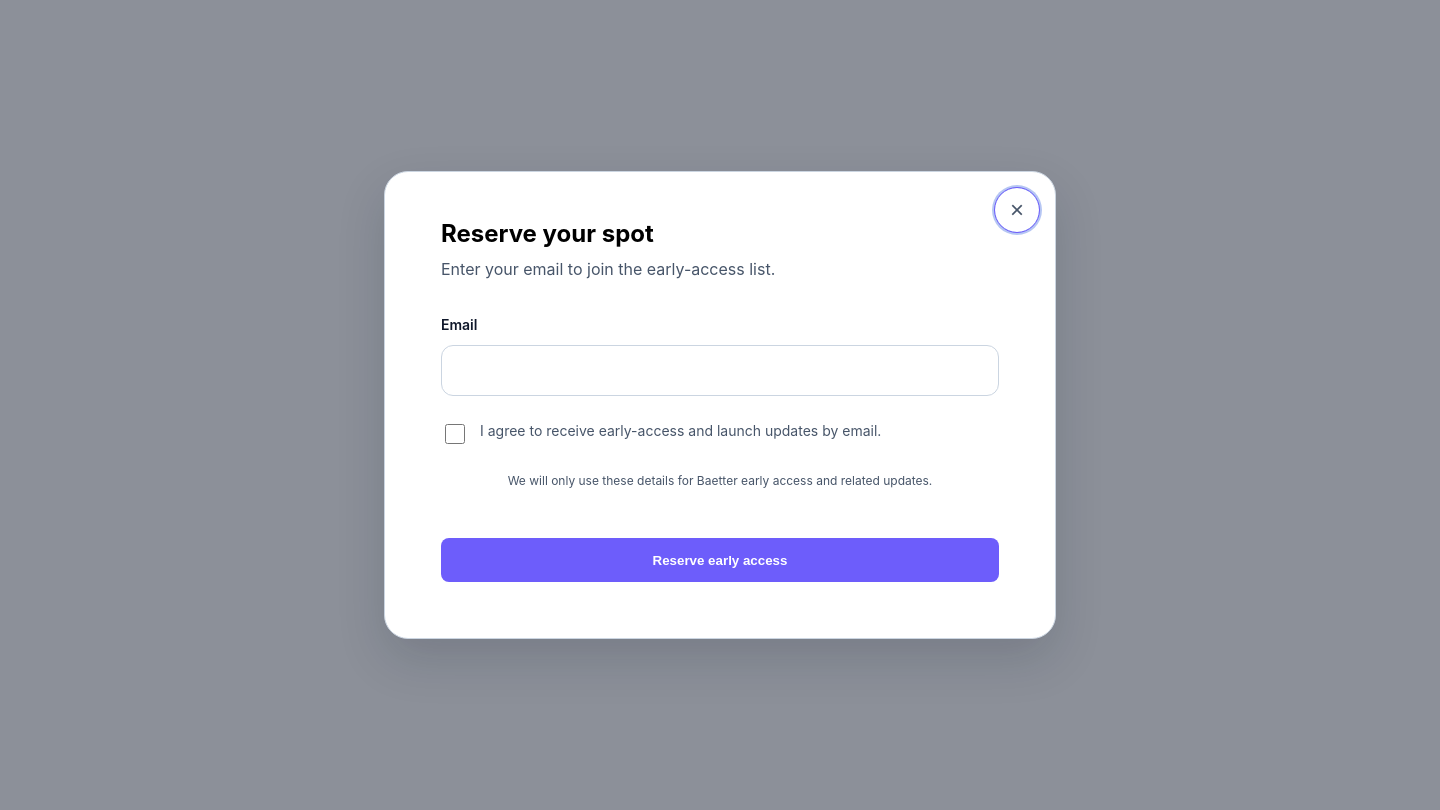
Test: EarlyAccessModal › maps adapter validation issues to the field and supports a later successful retry
Type "learner@example.com" into the field labelled "Email" at (720, 370), box 441,344 -> 999,396
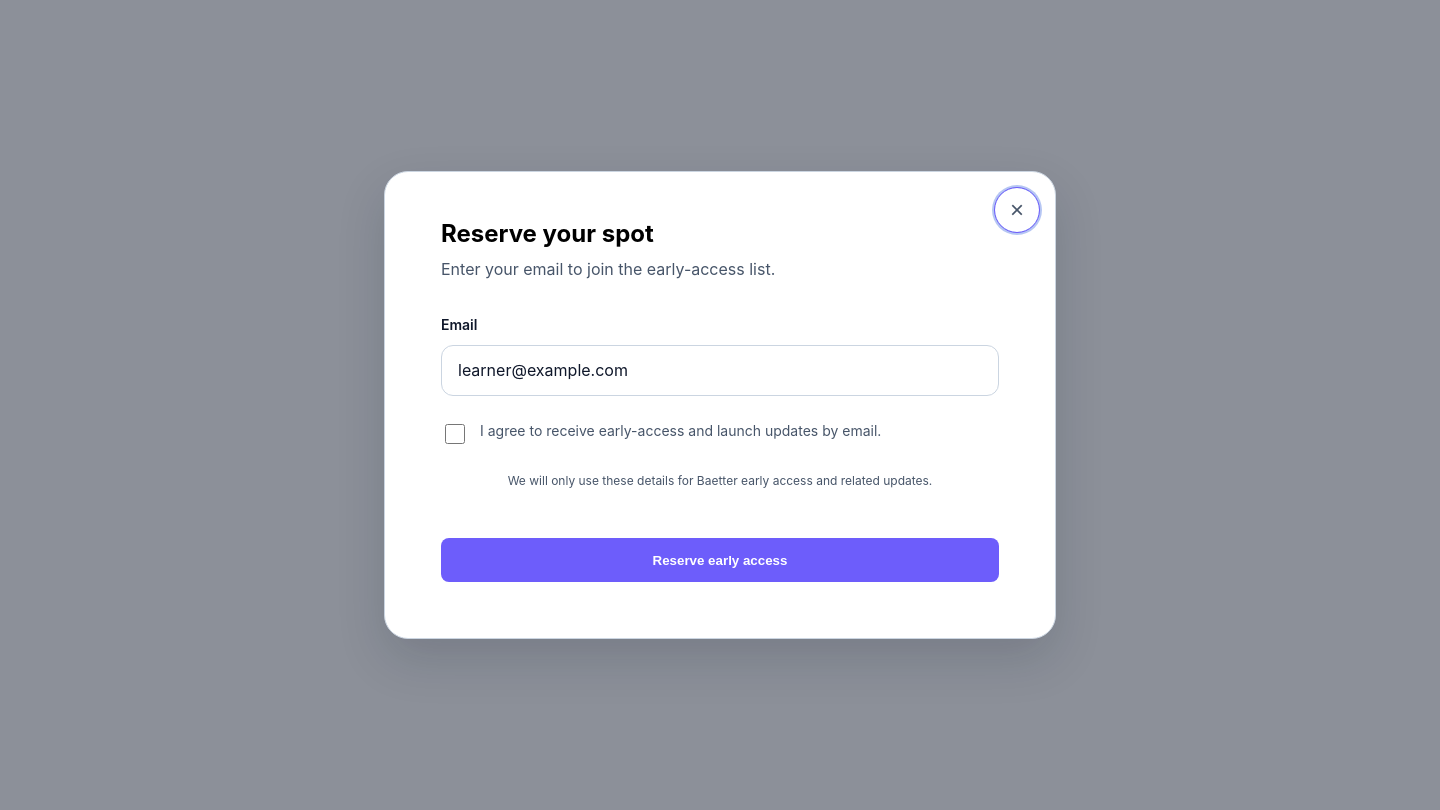
Click the checkbox labelled "I agree to receive early-access and launch updates by email." at (455, 434), box 445,424 -> 465,444
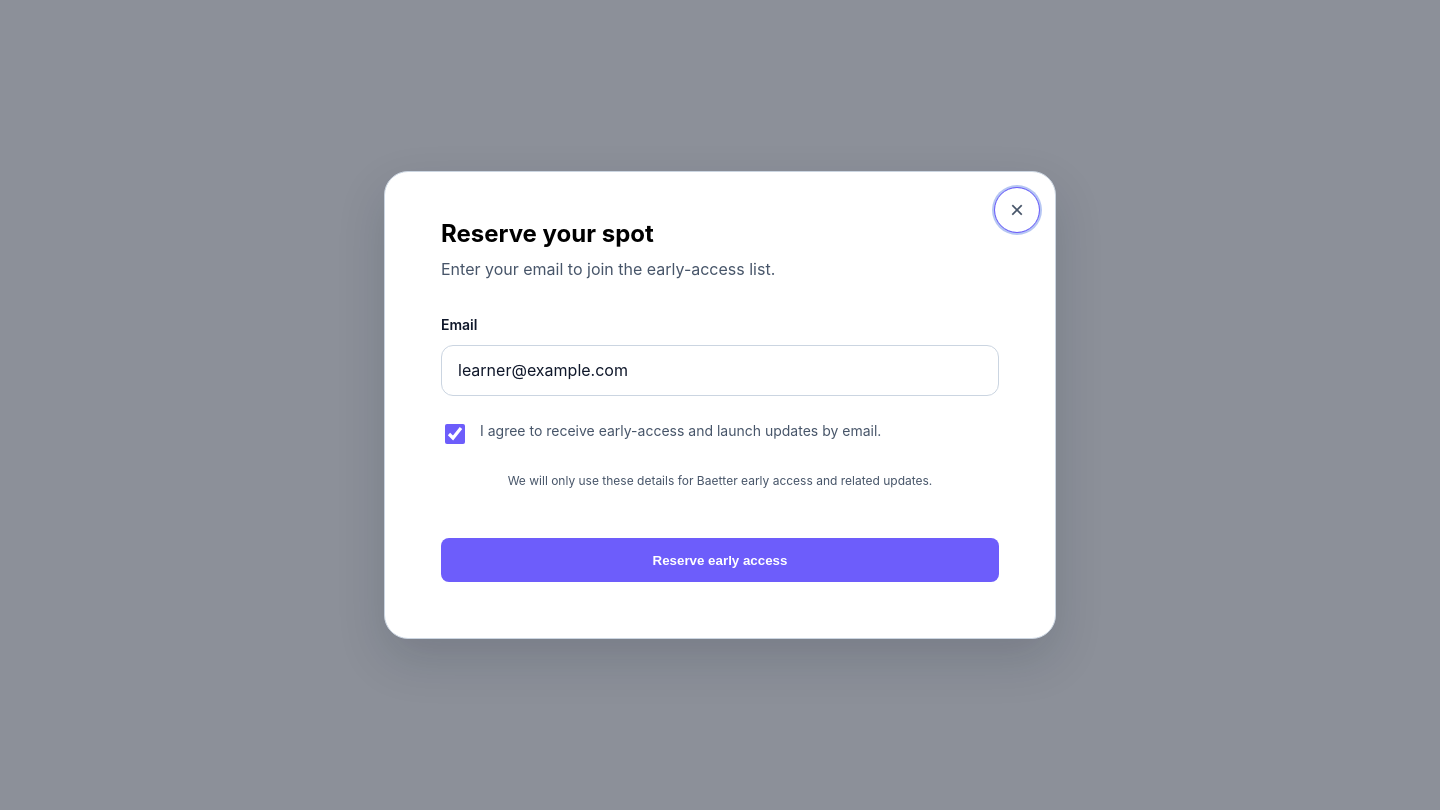
Submit the form with test id "early-access-form", box 441,314 -> 999,582
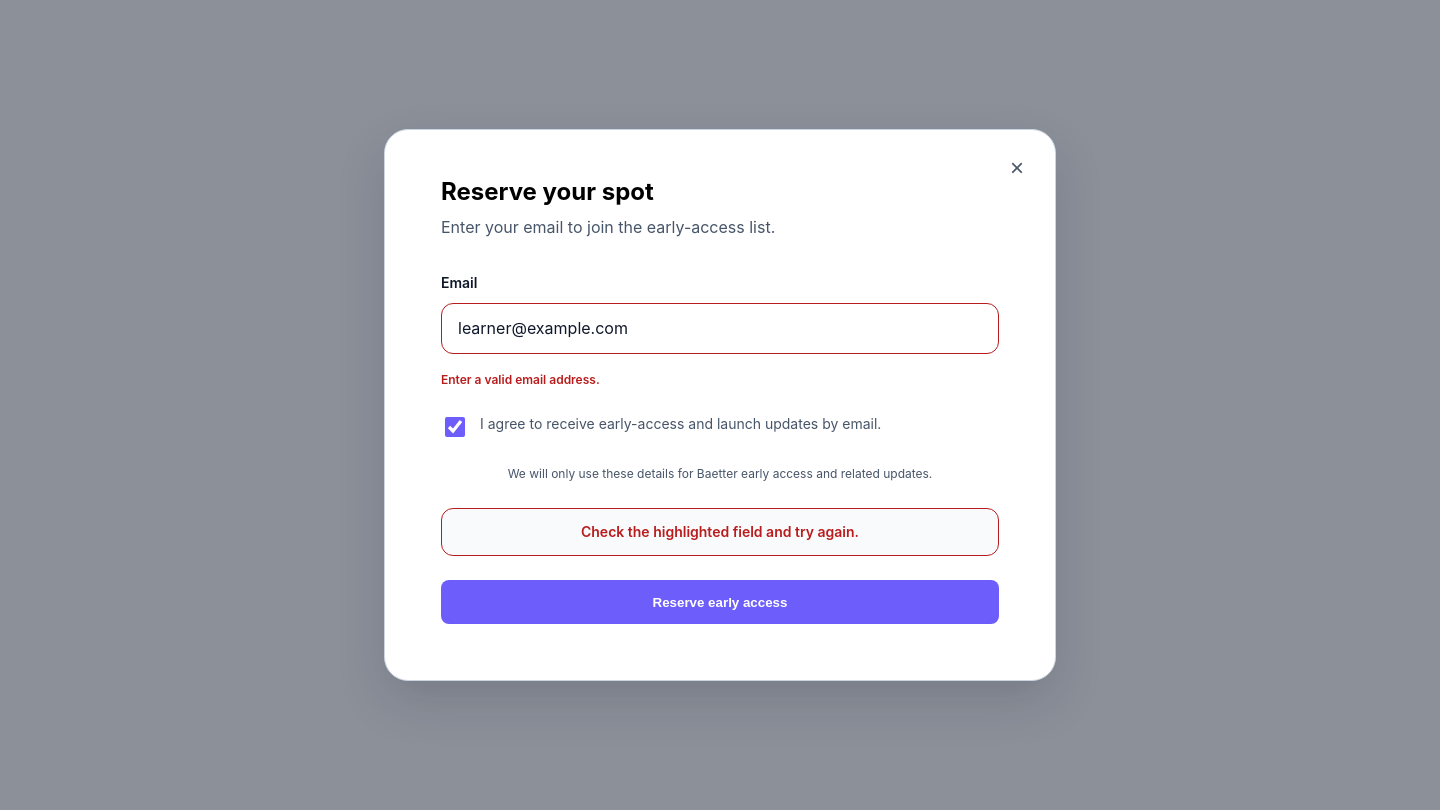
Expected: the message shows "Check the highlighted field", 581,523 -> 859,540
Replace the text in the field labelled "Email" with "retry@example.com" at (720, 328), box 441,303 -> 999,354
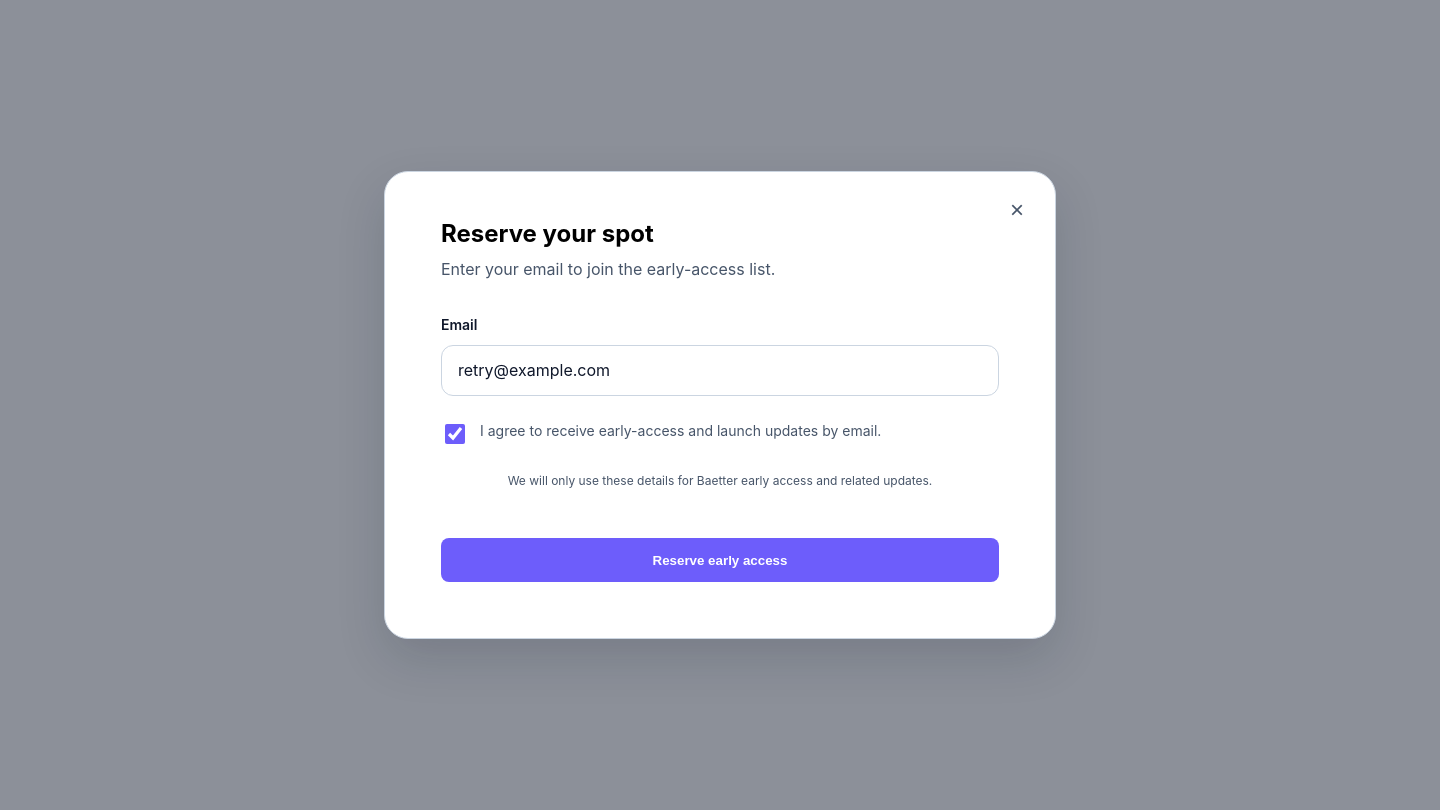
Submit the form with test id "early-access-form", box 441,314 -> 999,582
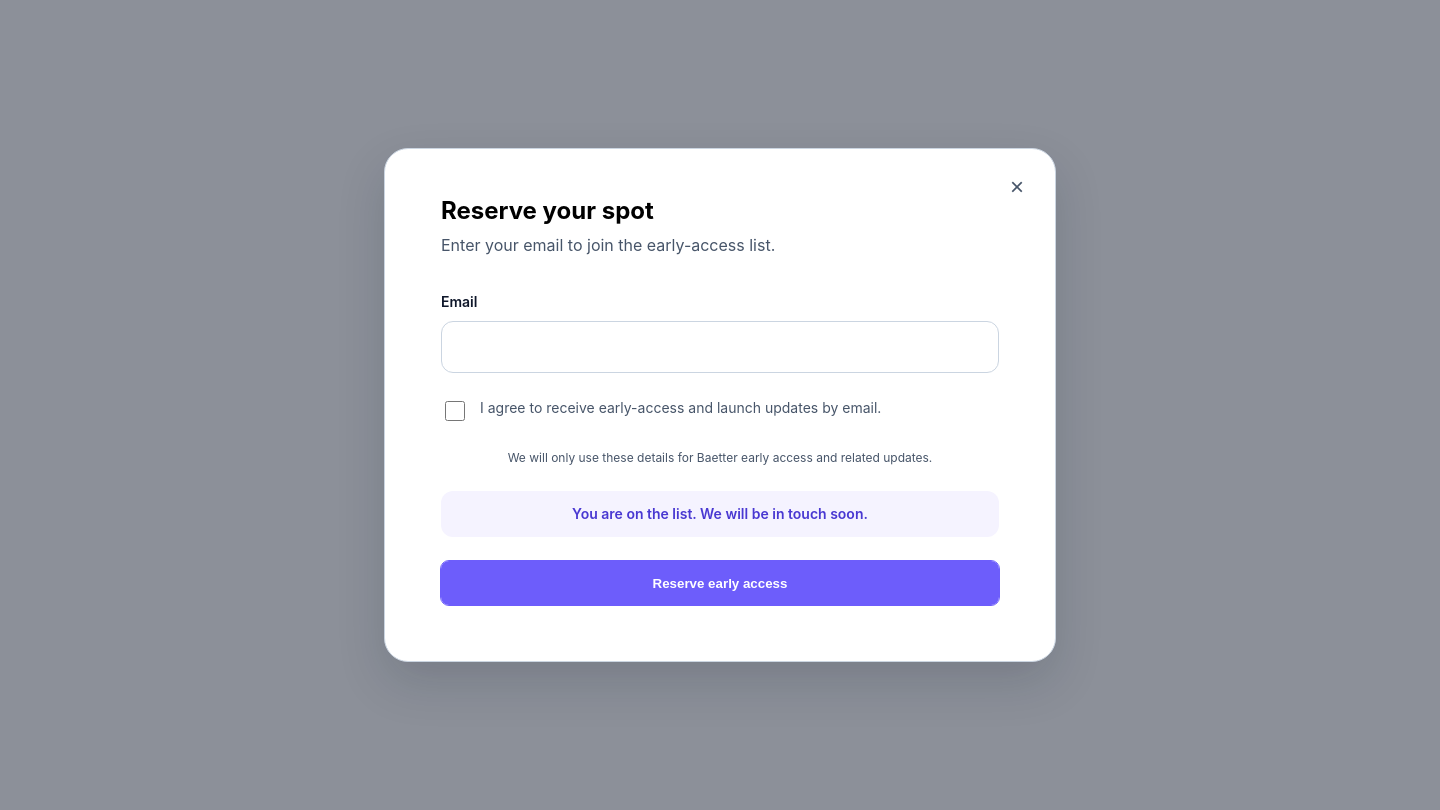
Expected: the dialog is shown, 384,148 -> 1056,662
Expected: the message shows "You are on the list", 572,505 -> 868,522
